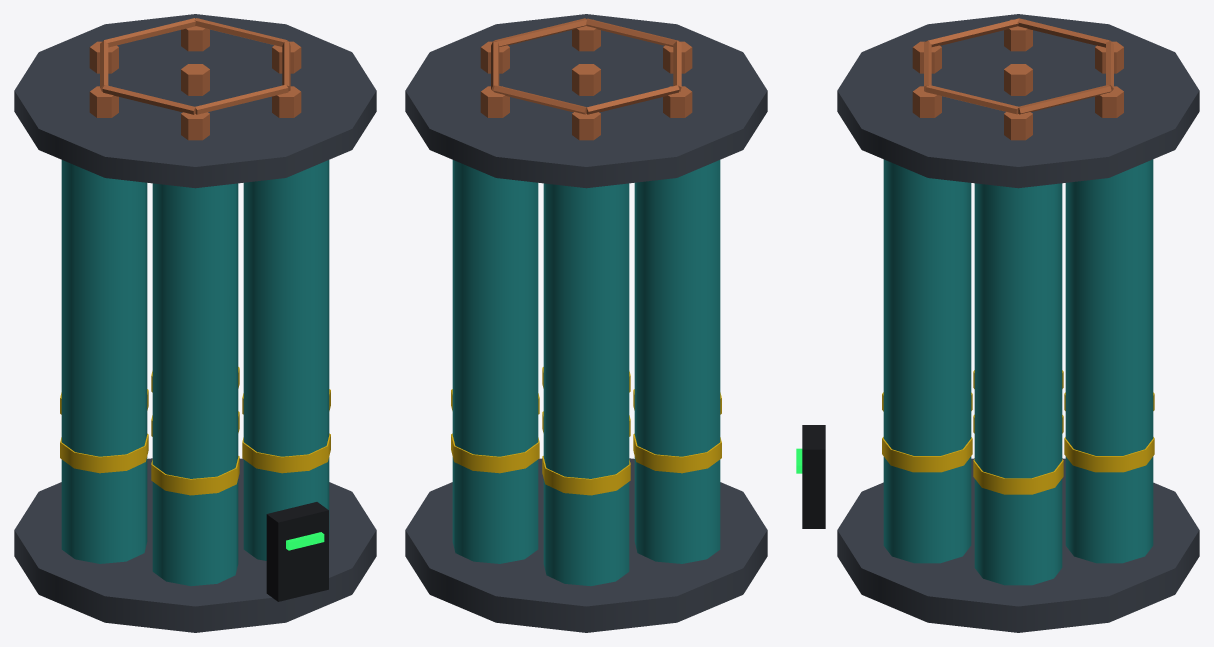
File: capacitor_supercapacitor_cluster.glb
The picture shows the model from 3 angles, left to right: view 1: azimuth 30°, elevation 25°; view 2: azimuth 150°, elevation 25°; view 3: azimuth 270°, elevation 25°; orthographic projection.
Visible parts, largest first — view 1: capacitor_supercapacitor_cluster; view 2: capacitor_supercapacitor_cluster; view 3: capacitor_supercapacitor_cluster.
Part boxes in pixels (x1,y1,x2,y2): capacitor_supercapacitor_cluster: (14,14,376,632); capacitor_supercapacitor_cluster: (405,14,767,632); capacitor_supercapacitor_cluster: (796,14,1199,632).
Bounding box in the file's own units: 1.24 × 1.86 × 1.38.
